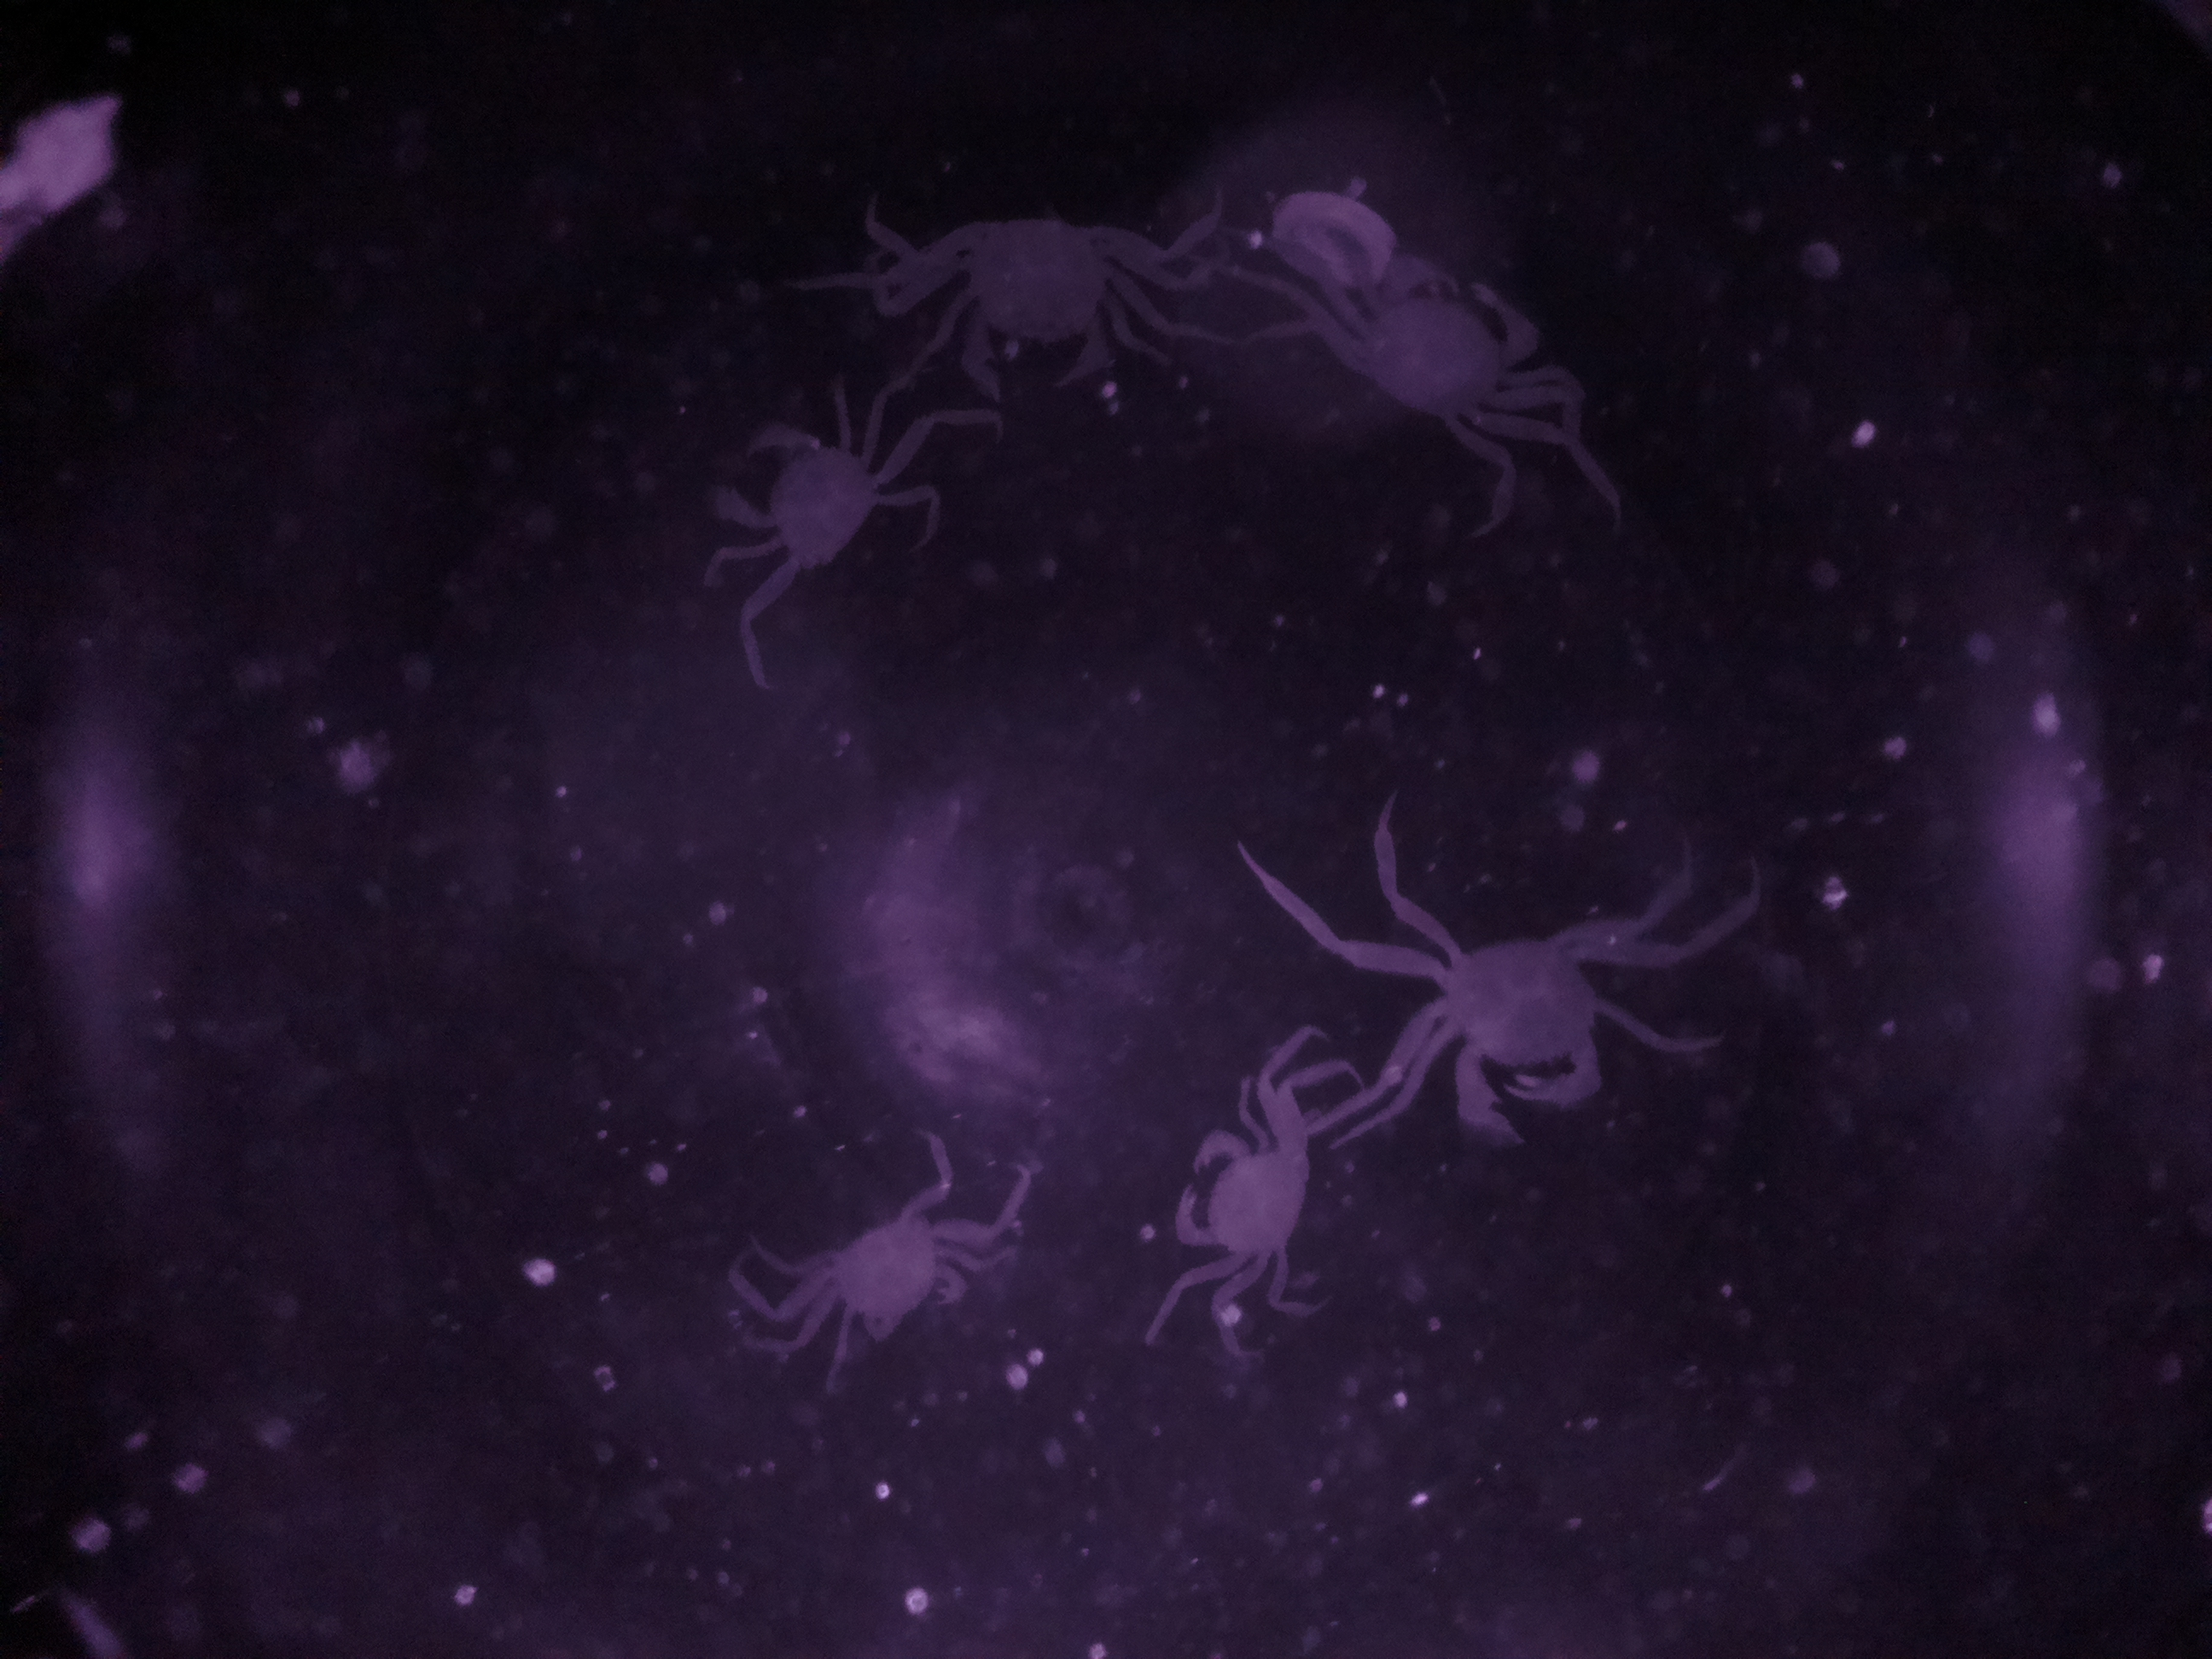Crab: (1372, 908, 1669, 1157), (1268, 230, 1575, 458), (887, 195, 1176, 416), (761, 1171, 1031, 1364), (697, 406, 939, 620), (1155, 1100, 1367, 1303)
